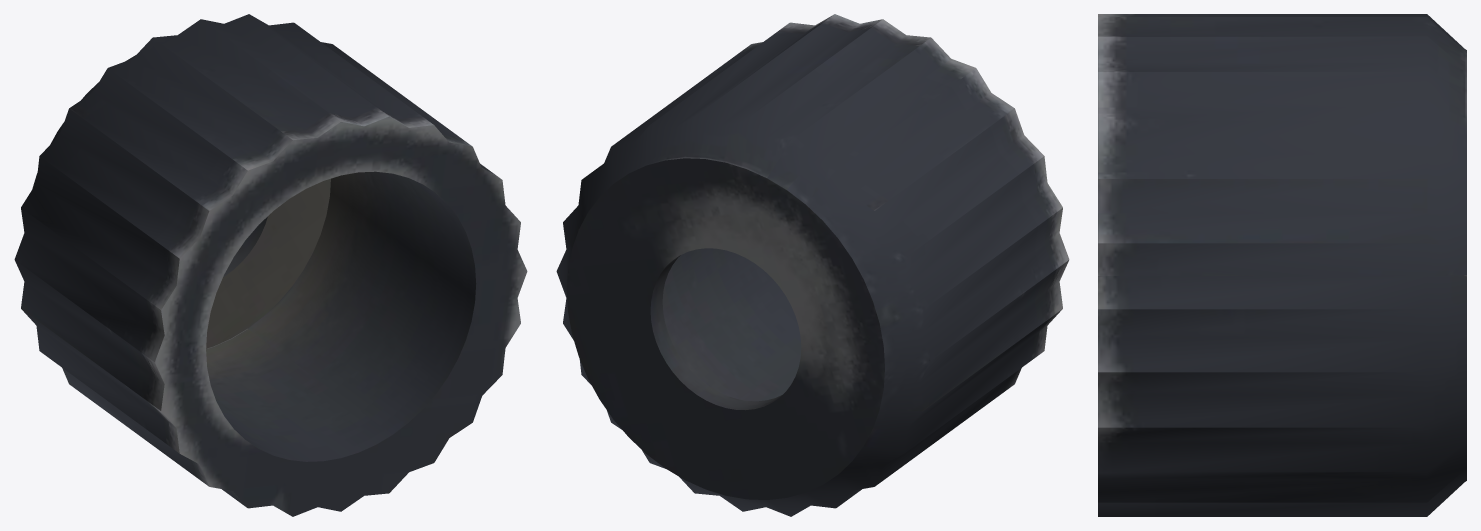
The model's file is protetor_rosca_22.glb.
3 views of the same model, side by side, from view 1: azimuth 30°, elevation 25°; view 2: azimuth 150°, elevation 25°; view 3: azimuth 270°, elevation 25° (orthographic). The views are drawn at different scales.
Visible parts, largest first — view 1: protetor_rosca_22_protetor; view 2: protetor_rosca_22_protetor; view 3: protetor_rosca_22_protetor.
Part boxes in pixels (bbox=[...]): protetor_rosca_22_protetor: bbox=[14, 14, 527, 516]; protetor_rosca_22_protetor: bbox=[556, 14, 1069, 516]; protetor_rosca_22_protetor: bbox=[1098, 14, 1466, 516].
Bounding box in the file's own units: 0.0178 × 0.0178 × 0.013.
1 material, 1 textured.
